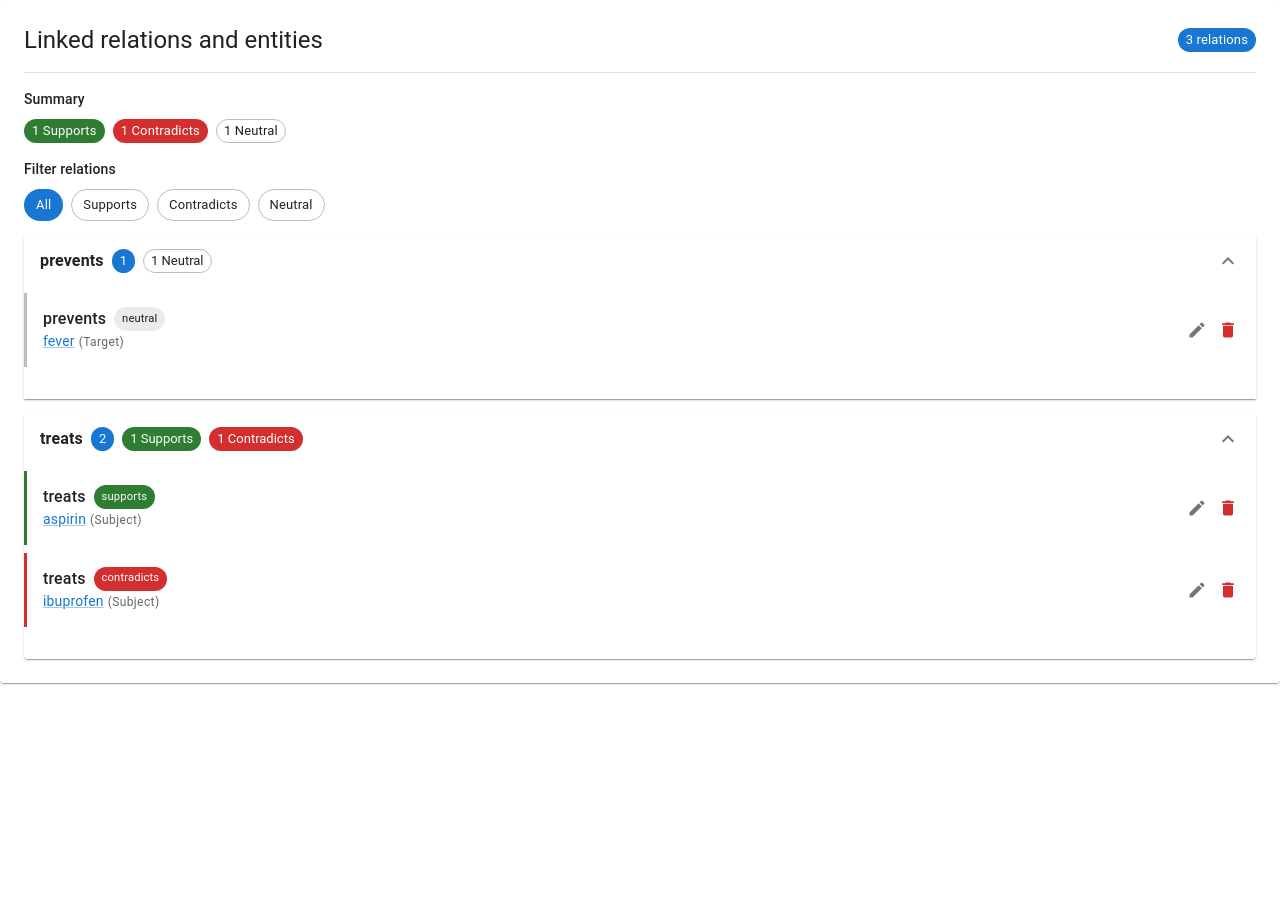
Test case: SourceRelationsSection › shows summary counts, filter chips, and expandable kind groups
expect the heading "Summary" is shown: met, box x1=24 y1=91 x2=85 y2=107
expect the heading "Filter relations" is shown: met, box x1=24 y1=161 x2=116 y2=177
Click the button "Contradicts" at (203, 205), box x1=157 y1=189 x2=250 y2=221
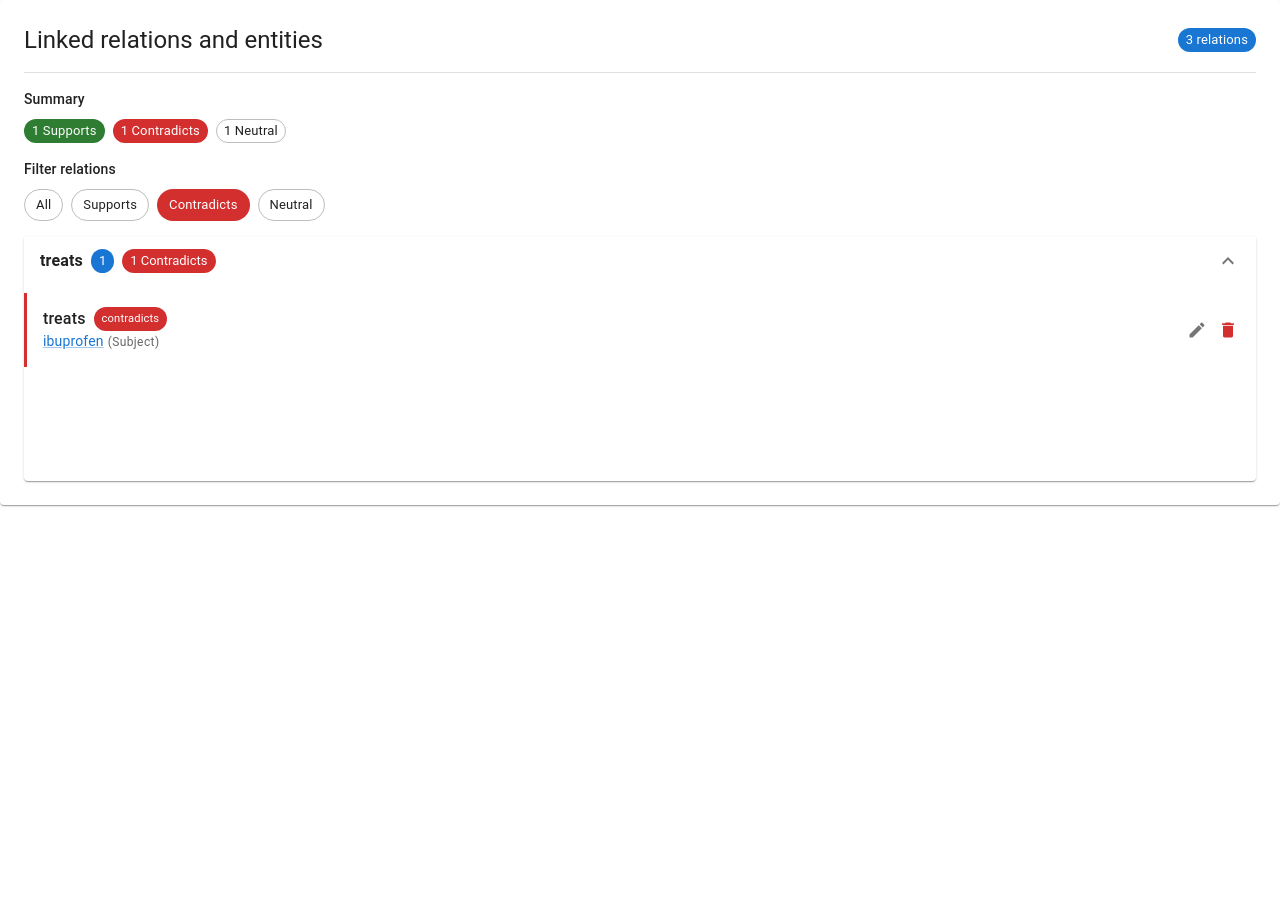
expect the link "ibuprofen" is shown: met, box x1=43 y1=331 x2=104 y2=351
expect the link "fever" is gone: met
Click the button "All" at (44, 205), box x1=24 y1=189 x2=63 y2=221
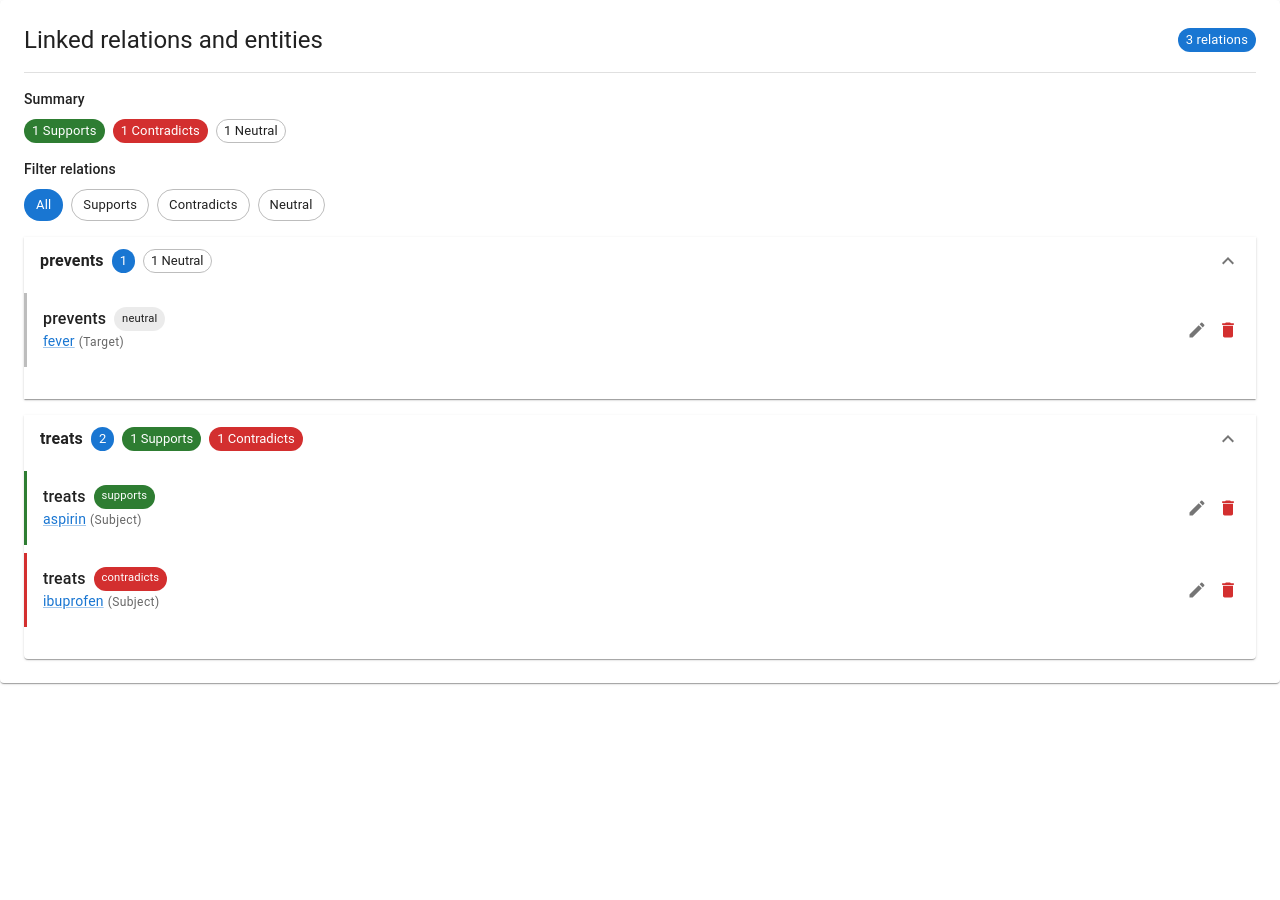
Click the button "prevents 1 1 Neutral" at (72, 260), box x1=24 y1=237 x2=1256 y2=285
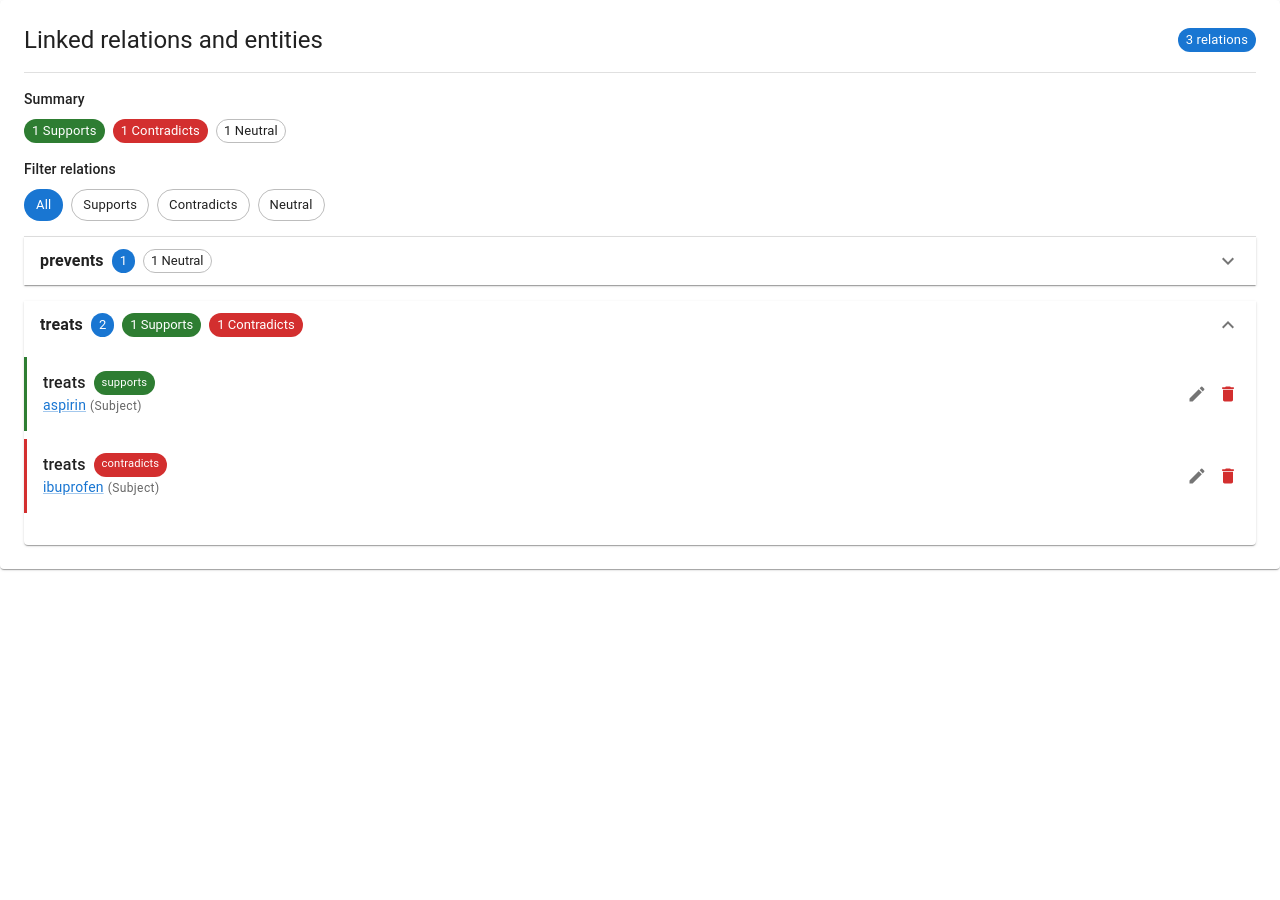
expect the button "prevents 1 1 Neutral" is collapsed: met, box x1=24 y1=237 x2=1256 y2=285
